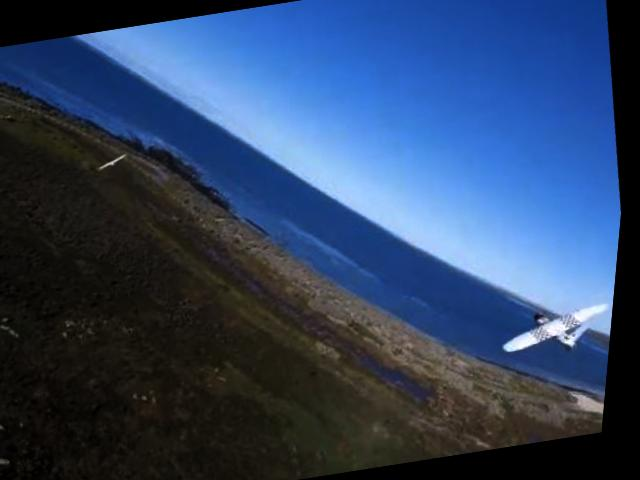uav: (502, 300, 619, 366)
